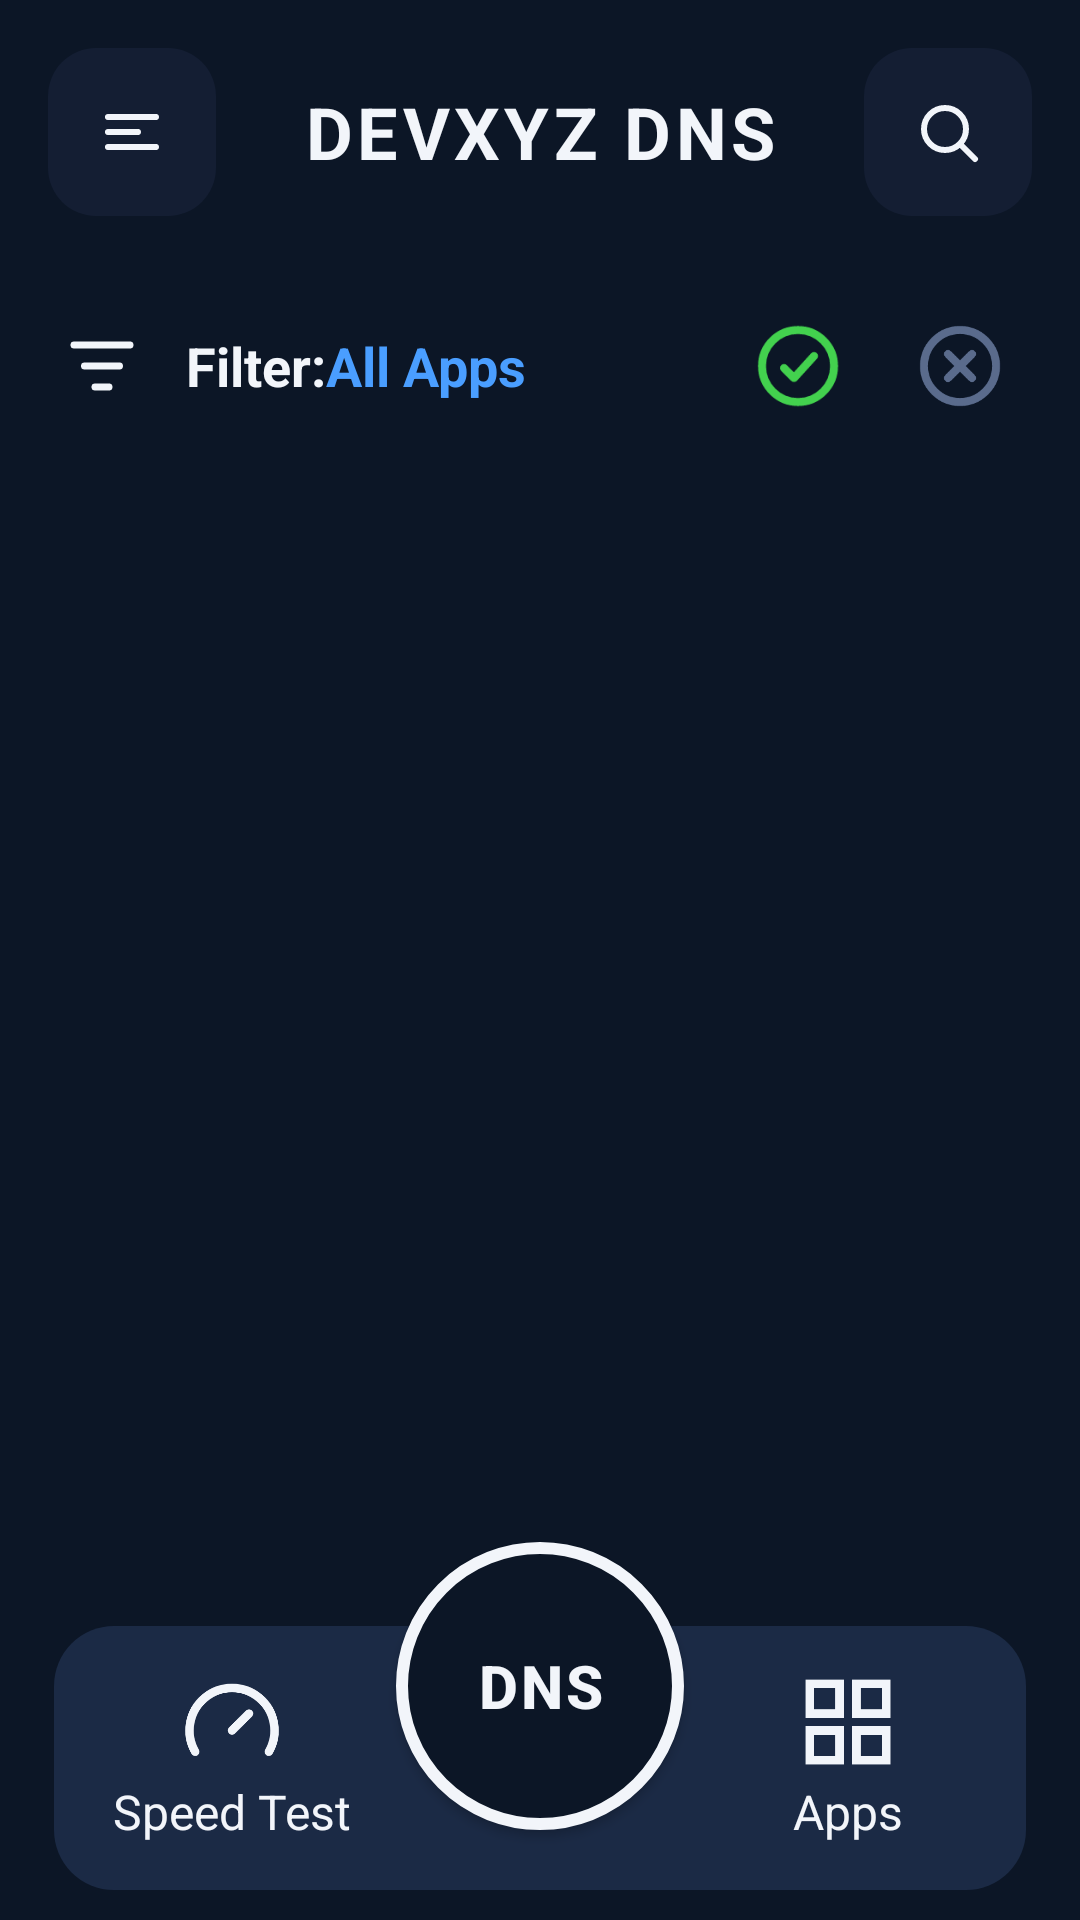

Icon bounding boxes for this 1080px×1920px phone screenshot, format [x1=x1, y1=y1, x2=x2, y2=y2]:
check circle: [x1=757, y1=325, x2=839, y2=407]
gauge: [x1=185, y1=1683, x2=279, y2=1756]
grid: [x1=805, y1=1679, x2=891, y2=1765]
menu: [x1=48, y1=48, x2=216, y2=216]
search: [x1=864, y1=48, x2=1032, y2=216]
